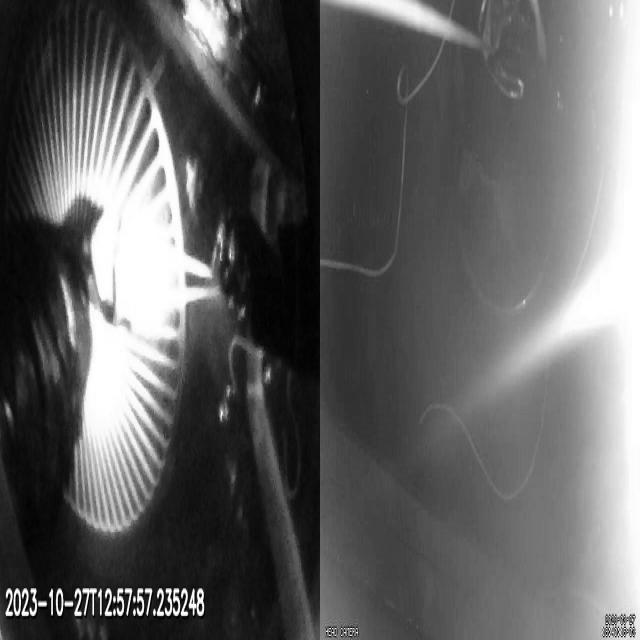head: (99, 208, 178, 328)
